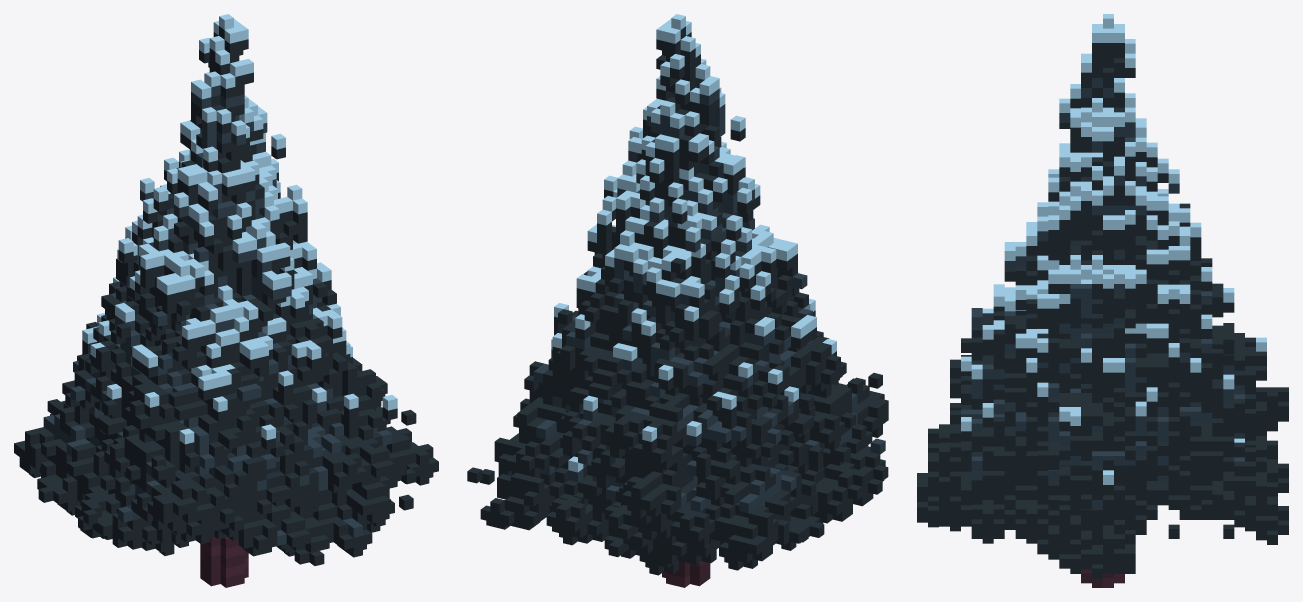
File: Snow_Environment_Deco_Tile_01-3.obj
The picture shows the model from 3 angles, left to right: view 1: azimuth 30°, elevation 25°; view 2: azimuth 150°, elevation 25°; view 3: azimuth 270°, elevation 25°; orthographic projection.
Visible parts, largest first — view 1: Snow_Environment_Deco_Tile_01-3; view 2: Snow_Environment_Deco_Tile_01-3; view 3: Snow_Environment_Deco_Tile_01-3.
Boxes of the visible parts, left/top/right/bottom form: Snow_Environment_Deco_Tile_01-3: left=14, top=14, right=438, bottom=587; Snow_Environment_Deco_Tile_01-3: left=467, top=14, right=888, bottom=587; Snow_Environment_Deco_Tile_01-3: left=917, top=14, right=1288, bottom=587.
Size of the model in its own units: 34 by 57 by 34.
1 material, 1 textured.
